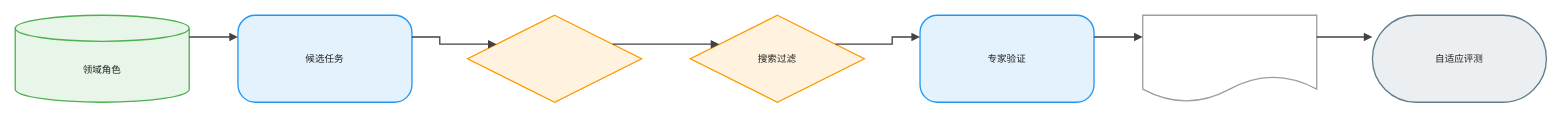
This 1563x118 diagram has some shape labels left out. The centre of each missing label's shape, as x and y in pixels:
任务过滤: the point at 554,58
研究报告: the point at 1229,58
